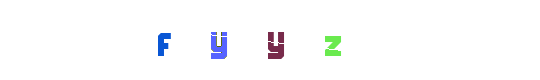F: (157, 0, 237, 80)
Y: (230, 0, 310, 80), (231, 0, 311, 80)
Z: (290, 0, 370, 80)
